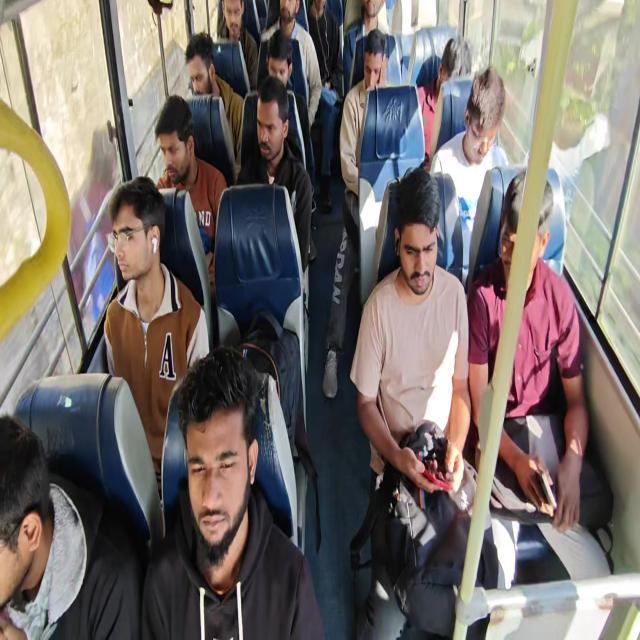person: (182, 415, 248, 559), (0, 413, 50, 596), (106, 206, 184, 294), (485, 189, 547, 278), (462, 75, 504, 169), (395, 202, 436, 290), (247, 96, 290, 167), (157, 106, 195, 177), (432, 36, 473, 100), (182, 40, 217, 98), (264, 47, 296, 94), (360, 40, 388, 91), (221, 0, 244, 36), (274, 0, 298, 31), (359, 0, 387, 21), (311, 0, 330, 18)
